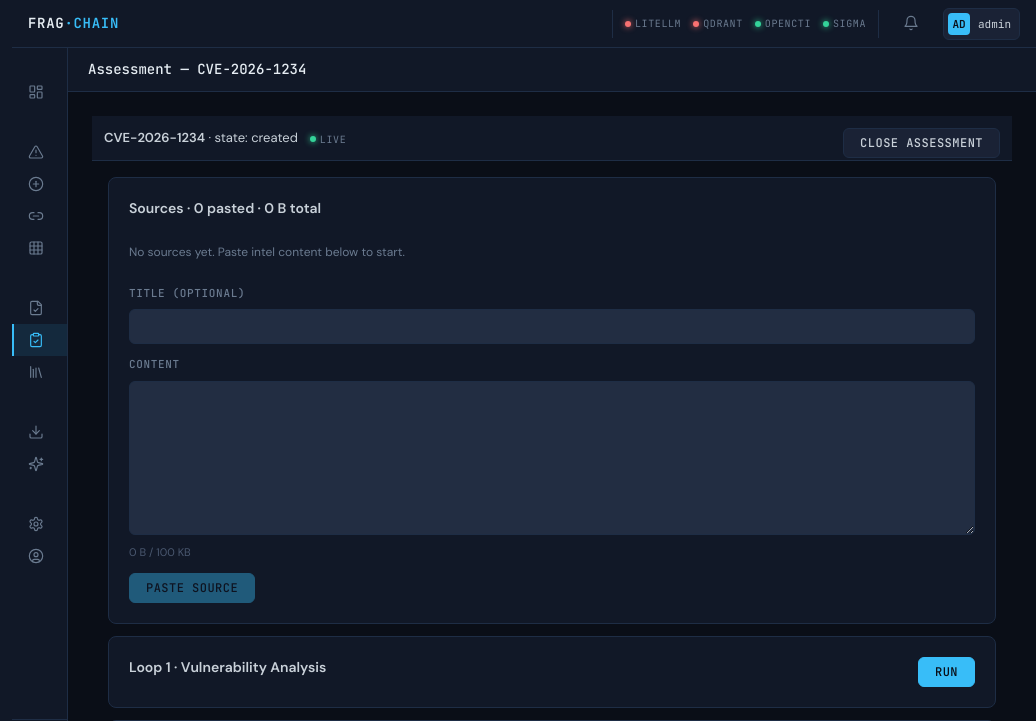
AssessmentWorkspace integration › walks created → loop1_done → loop2_done(gate_failed) → loop3_done
The width and height of the screenshot is (1036, 721).
Expected: the element labelled "Loop 1 · Vulnerability Analysis Run" is shown, top-left (108, 636), bottom-right (996, 708)
Click the button "Run" in the row of "Loop 1 · Vulnerability Analysis" at (946, 672), box top-left (918, 656), bottom-right (975, 686)
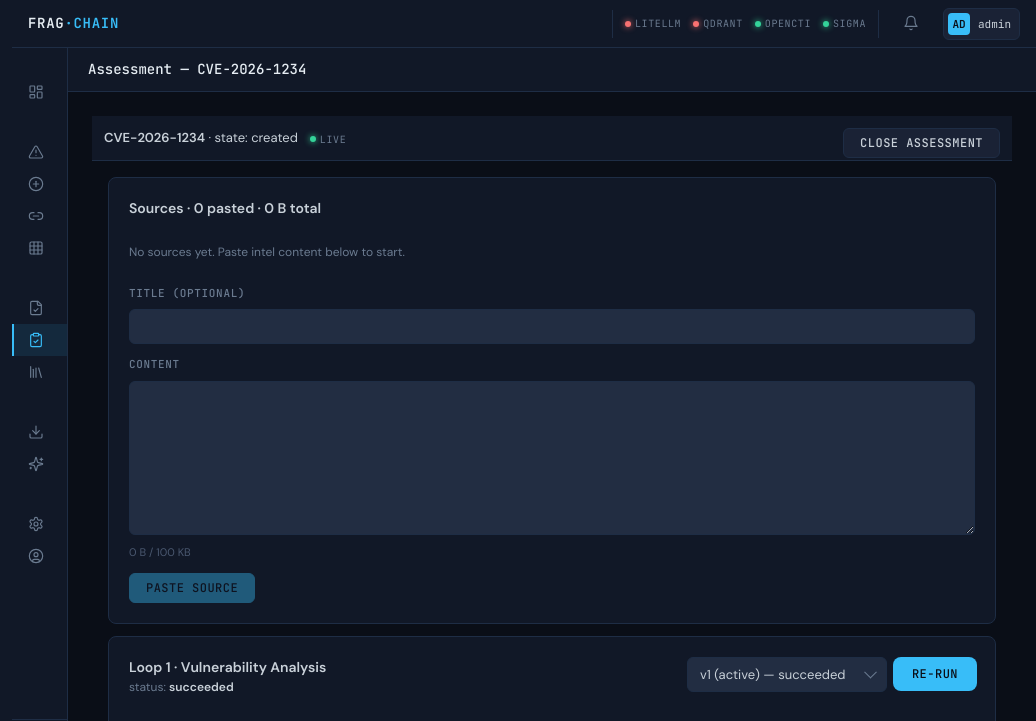
Now the button "v1 (active) — succeeded" is shown, box top-left (687, 656), bottom-right (887, 692)
